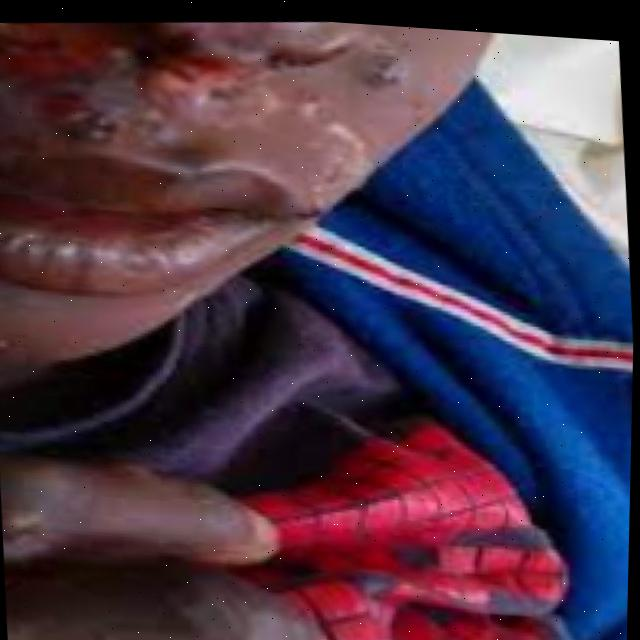Eczema: (0, 5, 397, 305)
